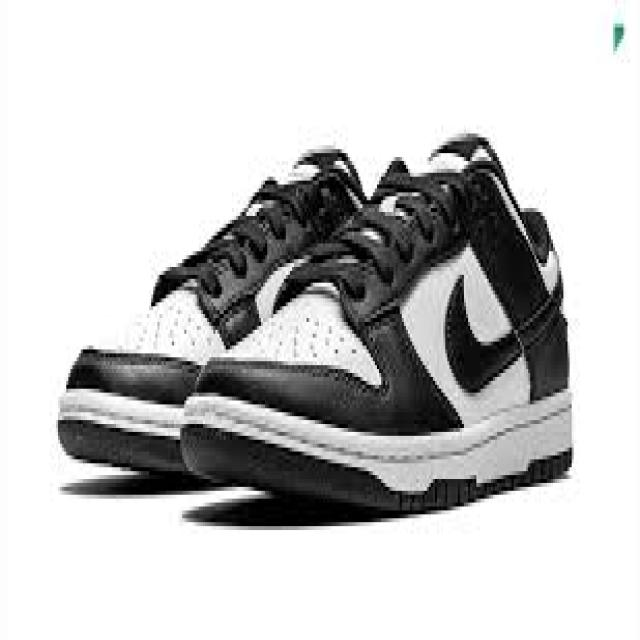shoes: (51, 130, 577, 511), (185, 132, 576, 500)
